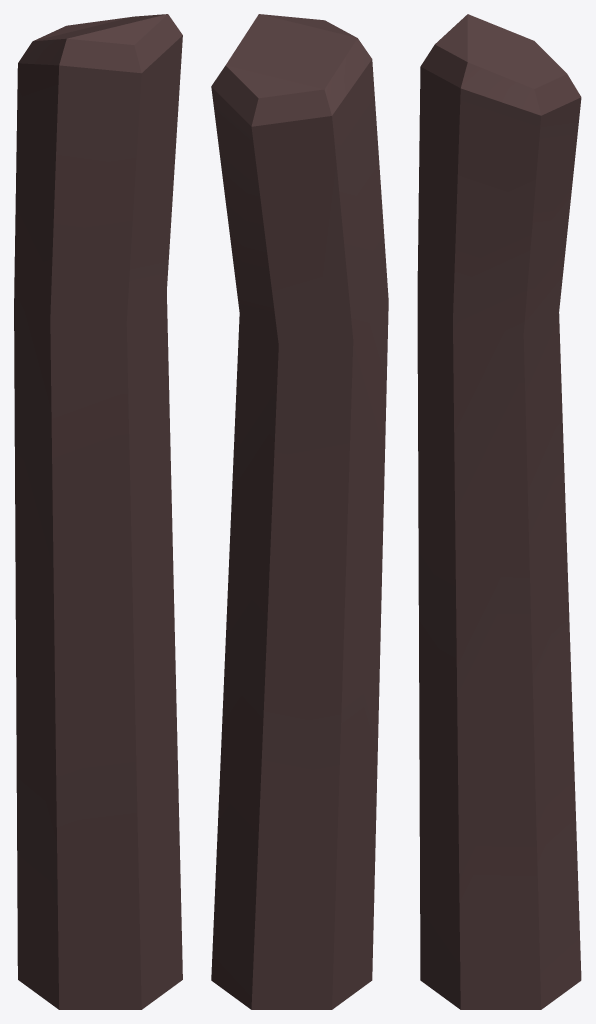
Rendered from wood_4.FBX.
The picture shows the model from 3 angles, left to right: view 1: azimuth 30°, elevation 25°; view 2: azimuth 150°, elevation 25°; view 3: azimuth 270°, elevation 25°; orthographic projection. The views are drawn at different scales.
Parts seen in each view (by area): view 1: wood_4; view 2: wood_4; view 3: wood_4.
Boxes of the visible parts, box(x1,y1,x2,y2) form: wood_4: box(14, 14, 182, 1009); wood_4: box(211, 14, 388, 1009); wood_4: box(417, 14, 581, 1009).
Bounding box in the file's own units: 5.39 × 36.42 × 5.74.
